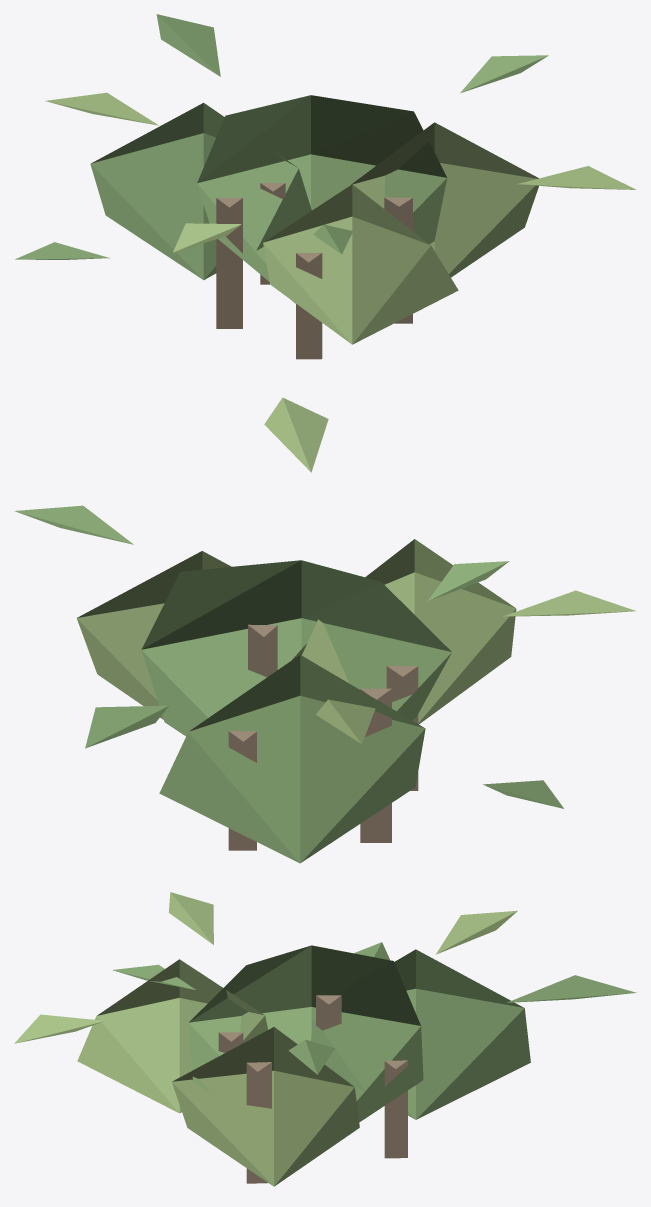
Rendered from guan.aili__spring.glb.
3 renders of one model, top to bottom at view 1: azimuth 30°, elevation 25°; view 2: azimuth 150°, elevation 25°; view 3: azimuth 270°, elevation 25°, orthographic. The views are drawn at different scales.
Visible parts, largest first — view 1: guan.aili__spring; view 2: guan.aili__spring; view 3: guan.aili__spring.
Boxes of the visible parts, left/top/right/bottom form: guan.aili__spring: left=15, top=14, right=636, bottom=359; guan.aili__spring: left=14, top=397, right=636, bottom=863; guan.aili__spring: left=14, top=892, right=636, bottom=1186.
Bounding box in the file's own units: 2.07 × 0.8506 × 2.32.
